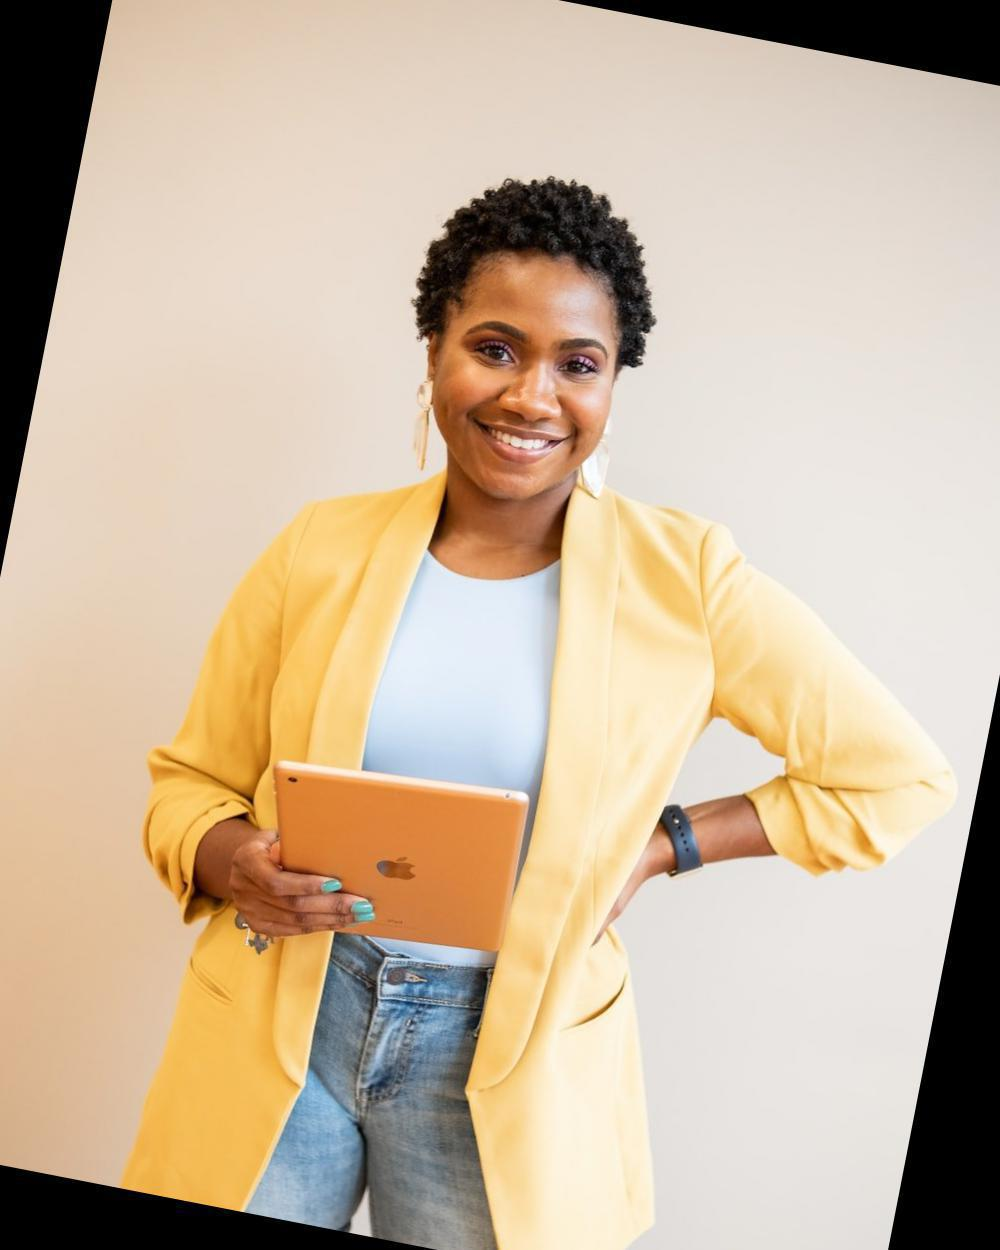Sober: (438, 253, 613, 489)
